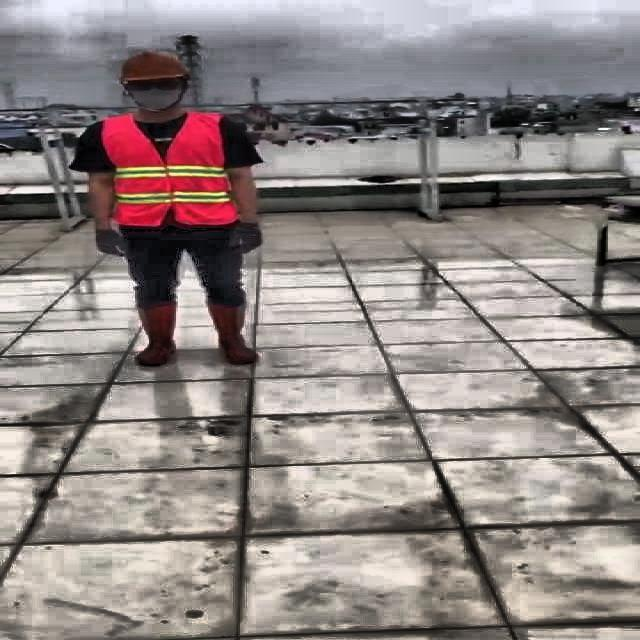safety_jacket: (100, 112, 236, 227)
